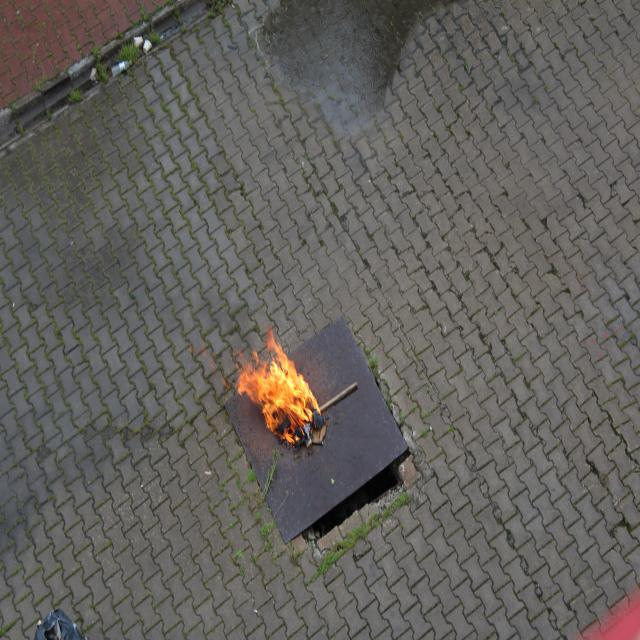fire: (232, 332, 328, 450)
